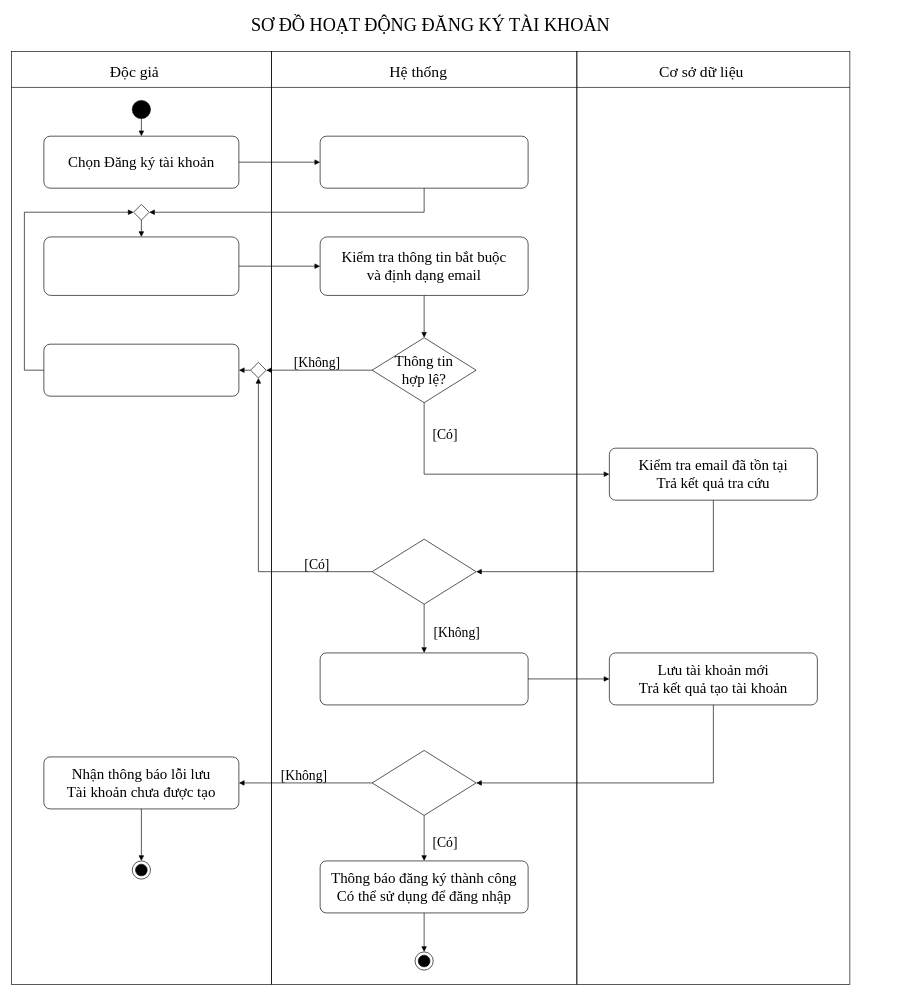
The diagram is 923 pixels wide and 996 high, and some of its shapes have lost their labels. The shapes that lost their labels are listed below. From the top down, each one's box as (x1, y1, x2, y2) in pixels, then its label:
(319, 136, 528, 188): Hiển thị form đăng ký
(43, 236, 239, 295): Nhập họ tên, email, mật khẩu Nhấn Đăng ký
(43, 344, 239, 396): Nhận thông báo lỗi Sửa thông tin đăng ký
(371, 539, 476, 604): Email đã có?
(319, 652, 528, 705): Gửi thông tin tạo tài khoản
(371, 750, 476, 815): Lưu được?
